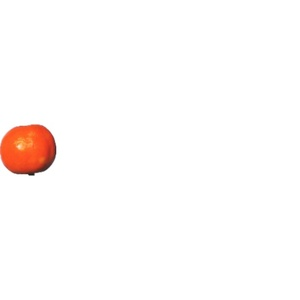tangerina: (1, 125, 57, 176)
